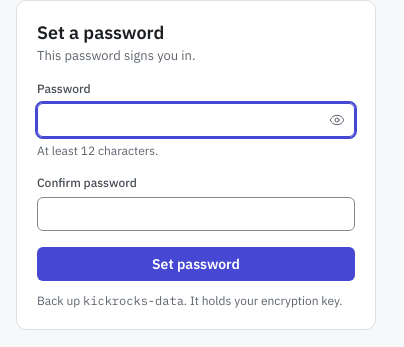
Scenario: the setup page › reveals and hides what was typed
Type "visible words" into the password field labelled "Password". click: (196,120)
box: left=37, top=103, right=355, bottom=137
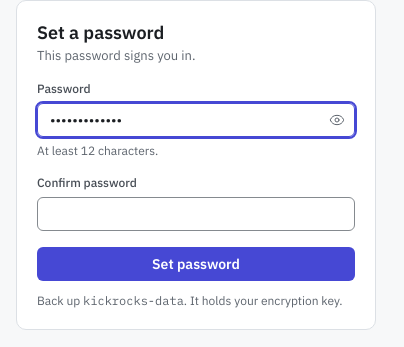
Click the button named "Show password". click: (337,120)
box: left=323, top=106, right=351, bottom=134
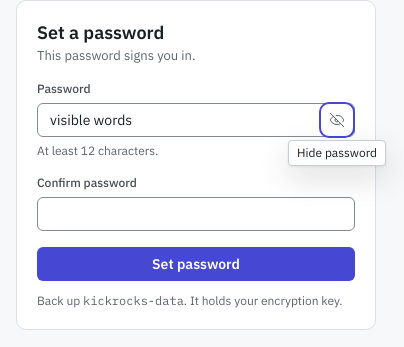
Expected: the field labelled "Password" shows its text, left=37, top=103, right=355, bottom=137
Click the button named "Hide password". click: (337,120)
box: left=323, top=106, right=351, bottom=134
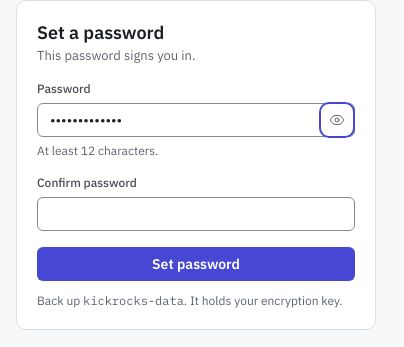
Expected: the password field labelled "Password" hides its text, left=37, top=103, right=355, bottom=137
